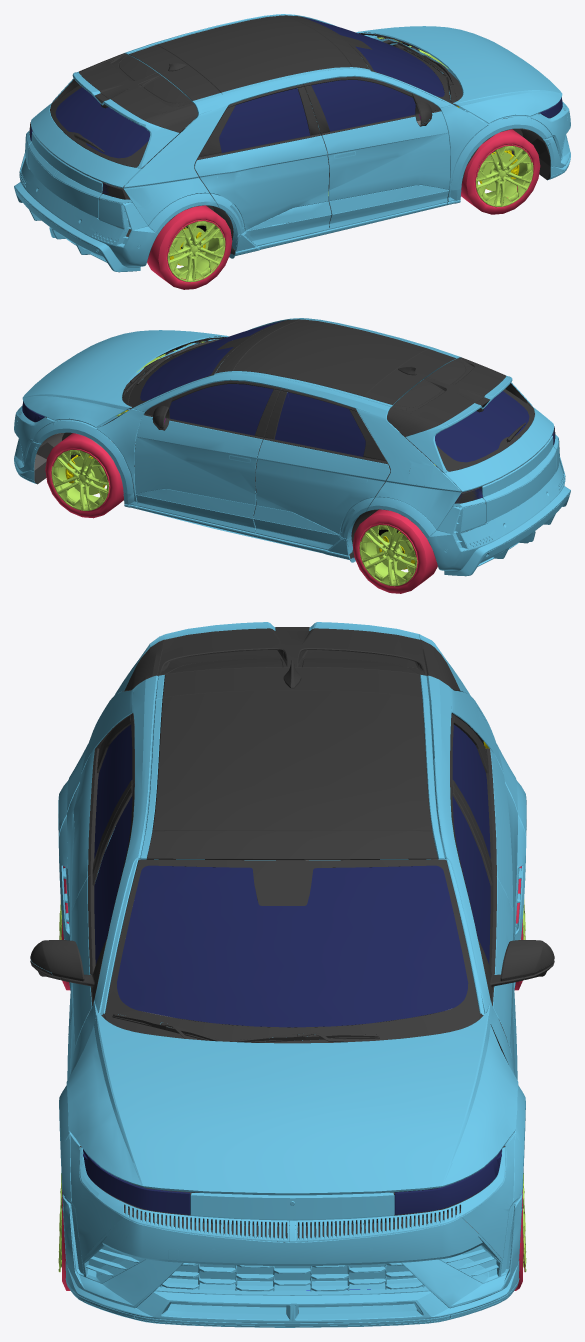
Rendered from FBX_ElectricCar.fbx.
3 renders of one model, top to bottom at view 1: azimuth 30°, elevation 25°; view 2: azimuth 150°, elevation 25°; view 3: azimuth 270°, elevation 25°, orthographic. The views are drawn at different scales.
Visible parts, largest first — view 1: SM_Electric, SM_Tail, SM_DoorFrontRight, SM_DoorRearRight, SM_Hood, SM_WheelRearLeft, SM_WheelFrontRight, SM_Chassis; view 2: SM_Electric, SM_Tail, SM_DoorFrontLeft, SM_DoorRearLeft, SM_Hood, SM_WheelRearRight, SM_WheelFrontLeft, SM_Chassis, SM_ChargePort; view 3: SM_Electric, SM_Hood, SM_Tail, SM_DoorFrontLeft, SM_DoorFrontRight, SM_DoorRearRight, SM_DoorRearLeft, SM_Chassis.
Boxes of the visible parts, left/top/right/bottom form: SM_Electric: left=14, top=14, right=570, bottom=272; SM_Tail: left=28, top=53, right=197, bottom=218; SM_DoorFrontRight: left=303, top=76, right=450, bottom=229; SM_DoorRearRight: left=194, top=84, right=331, bottom=246; SM_Hood: left=356, top=26, right=562, bottom=123; SM_WheelRearLeft: left=147, top=205, right=232, bottom=289; SM_WheelFrontRight: left=461, top=129, right=540, bottom=214; SM_Chassis: left=29, top=38, right=558, bottom=256; SM_Electric: left=14, top=318, right=570, bottom=576; SM_Tail: left=387, top=357, right=556, bottom=522; SM_DoorFrontLeft: left=134, top=380, right=281, bottom=533; SM_DoorRearLeft: left=253, top=388, right=390, bottom=550; SM_Hood: left=22, top=330, right=228, bottom=427; SM_WheelRearRight: left=352, top=509, right=437, bottom=593; SM_WheelFrontLeft: left=45, top=433, right=123, bottom=518; SM_Chassis: left=26, top=342, right=555, bottom=560; SM_ChargePort: left=408, top=463, right=433, bottom=486; SM_Electric: left=58, top=660, right=526, bottom=1327; SM_Hood: left=66, top=1013, right=518, bottom=1195; SM_Tail: left=114, top=622, right=470, bottom=695; SM_DoorFrontLeft: left=450, top=783, right=554, bottom=1079; SM_DoorFrontRight: left=30, top=783, right=134, bottom=1079; SM_DoorRearRight: left=67, top=713, right=134, bottom=1034; SM_DoorRearLeft: left=450, top=713, right=517, bottom=1034; SM_Chassis: left=79, top=690, right=508, bottom=1313.
Bounding box in the file's own units: 4.62 × 1.59 × 2.13.
